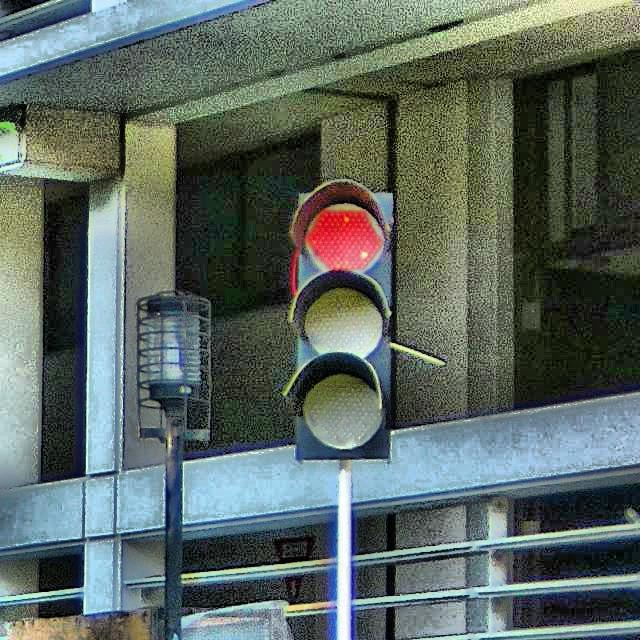red: (295, 188, 402, 460)
